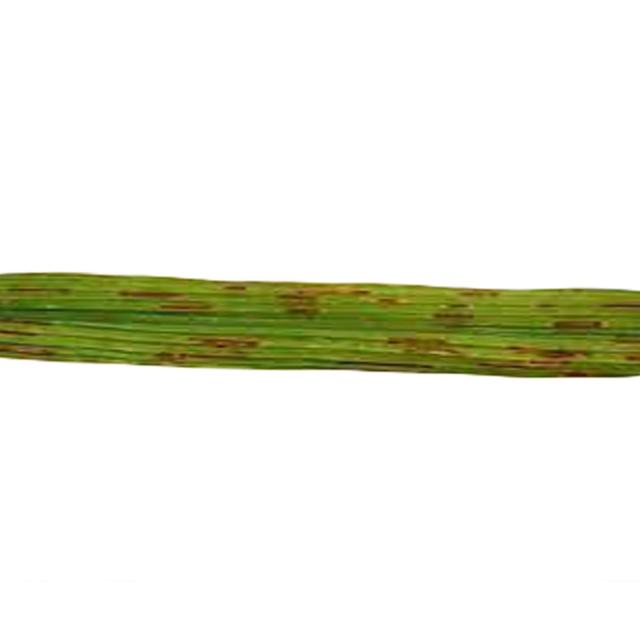Brown spot: (0, 241, 640, 414)
